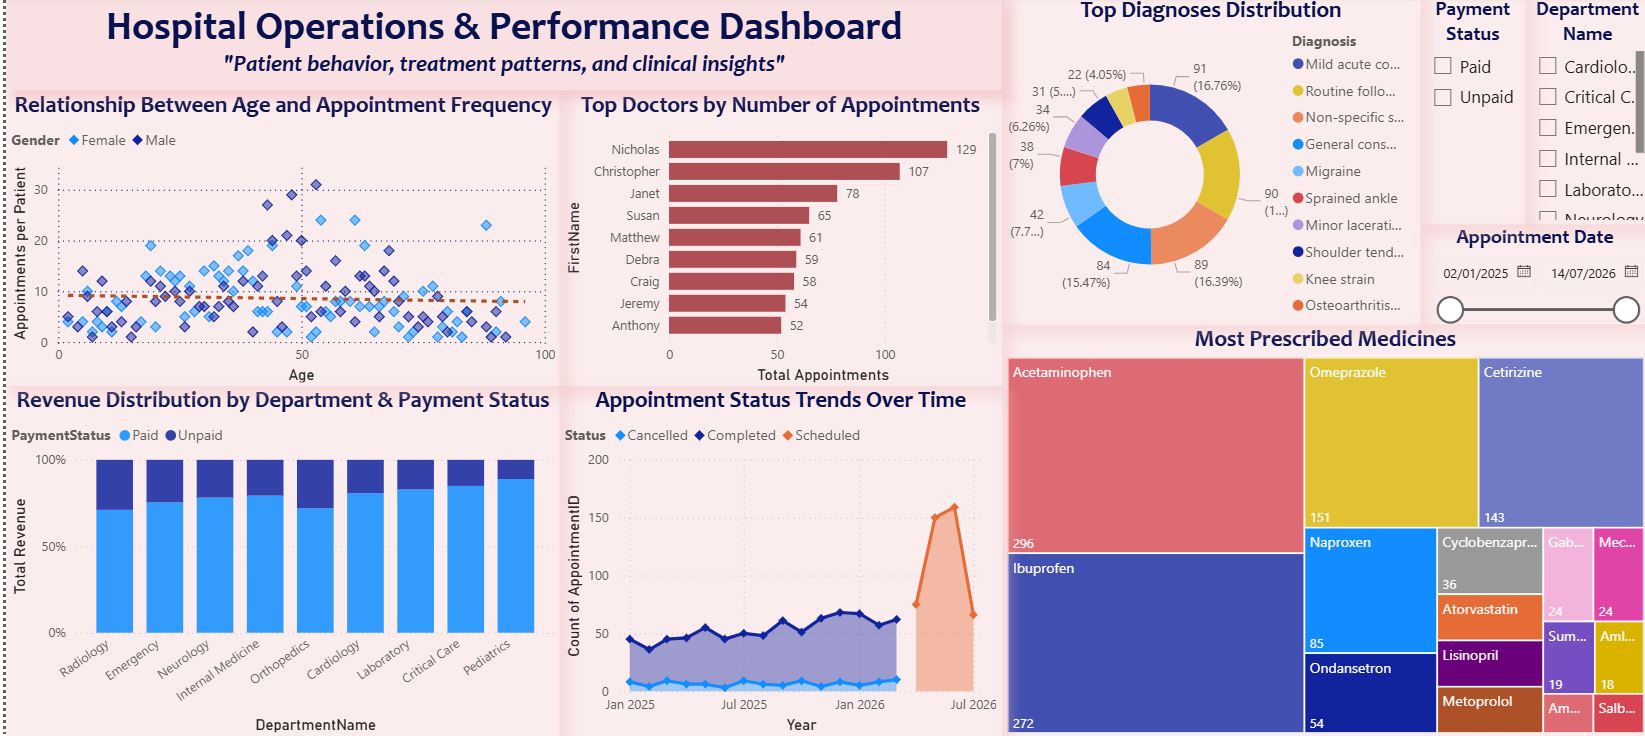

The page's visual inventory and layout, read from the dashboard file:
{"tool":"powerbi","page":{"name":"Page 2","canvas":[1550,700],"ordinal":1},"visuals":[{"type":"barChart","title":"Top Doctors by Number of Appointments","fields":{"Y":["Appointment.Total Appointments"],"Category":["Doctor.FirstName"]},"box":[522.9,88.6,417.1,280],"z":0},{"type":"treemap","title":"Most Prescribed Medicines","fields":{"Values":["CountNonNull(Prescription.PrescriptionID)"],"Group":["Medicine.MedicineName"]},"box":[940,310,610,390],"z":1000},{"type":"hundredPercentStackedColumnChart","title":"Revenue Distribution by Department & Payment Status","fields":{"Category":["Department.DepartmentName"],"Y":["Billing.Total Revenue"],"Series":["Billing.PaymentStatus"]},"box":[0,368.6,522.9,331.4],"z":2000},{"type":"scatterChart","title":"Relationship Between Age and Appointment Frequency","fields":{"X":["Patient.Age"],"Y":["Appointment.Appointments per Patient"],"Series":["Patient.Gender"]},"box":[0,88.6,522.9,280],"z":3000},{"type":"stackedAreaChart","title":"Appointment Status Trends Over Time","fields":{"Series":["Appointment.Status"],"Y":["CountNonNull(Appointment.AppointmentID)"],"Category":["Appointment.AppointmentDate.Variation.Date Hierarchy.Year","Appointment.AppointmentDate.Variation.Date Hierarchy.Month"]},"box":[522.9,368.6,417.1,331.4],"z":4000},{"type":"slicer","title":"Department Name","fields":{"Values":["Department.DepartmentName"]},"box":[1432.9,0,117.1,215.7],"z":5000},{"type":"slicer","title":"Appointment Date","fields":{"Values":["Appointment.AppointmentDate"]},"box":[1334.3,215.7,215.7,94.3],"z":6000},{"type":"donutChart","title":"Top Diagnoses Distribution","fields":{"Category":["Medical_Record.Diagnosis"],"Y":["CountNonNull(Medical_Record.RecordID)"]},"box":[940,0,394.3,310],"z":7000},{"type":"slicer","title":"Payment Status","fields":{"Values":["Billing.PaymentStatus"]},"box":[1334.3,0,98.6,215.7],"z":8000},{"type":"textbox","box":[0,0,940,88.6],"z":9000}]}

Visuals, with their boxes in screenshot pixels (x1, y1, x2, y2), scaled from the page's 1550x700 canvas onto the 1645x736 screenshot:
"Top Doctors by Number of Appointments" barChart: {"left": 555, "top": 93, "right": 998, "bottom": 388}
"Most Prescribed Medicines" treemap: {"left": 998, "top": 326, "right": 1644, "bottom": 735}
"Revenue Distribution by Department & Payment Status" hundredPercentStackedColumnChart: {"left": 0, "top": 388, "right": 555, "bottom": 735}
"Relationship Between Age and Appointment Frequency" scatterChart: {"left": 0, "top": 93, "right": 555, "bottom": 388}
"Appointment Status Trends Over Time" stackedAreaChart: {"left": 555, "top": 388, "right": 998, "bottom": 735}
"Department Name" slicer: {"left": 1521, "top": 0, "right": 1644, "bottom": 227}
"Appointment Date" slicer: {"left": 1416, "top": 227, "right": 1644, "bottom": 326}
"Top Diagnoses Distribution" donutChart: {"left": 998, "top": 0, "right": 1416, "bottom": 326}
"Payment Status" slicer: {"left": 1416, "top": 0, "right": 1521, "bottom": 227}
textbox: {"left": 0, "top": 0, "right": 998, "bottom": 93}
